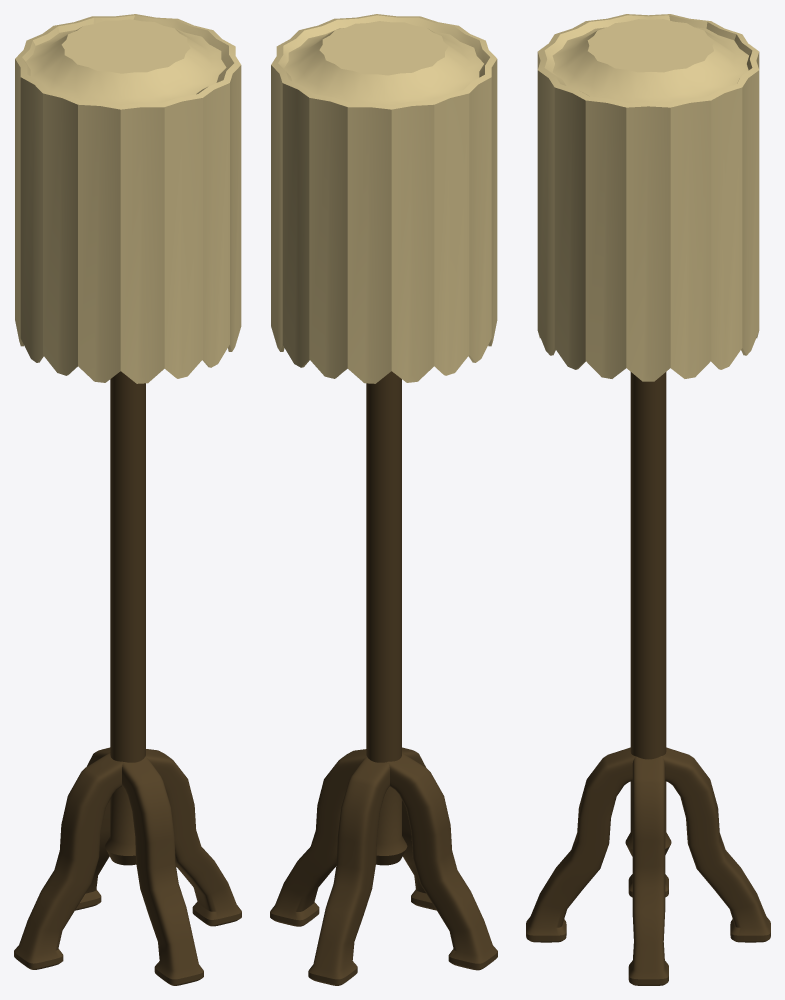
The model's file is veshalka5.fbx.
3 views of the same model, side by side, from view 1: azimuth 30°, elevation 25°; view 2: azimuth 150°, elevation 25°; view 3: azimuth 270°, elevation 25° (orthographic).
Parts seen in each view (by area): view 1: Cylinder.002; view 2: Cylinder.002; view 3: Cylinder.002.
Part boxes in pixels (left/top/right/bottom): Cylinder.002: left=14, top=14, right=241, bottom=985; Cylinder.002: left=270, top=14, right=497, bottom=985; Cylinder.002: left=526, top=14, right=770, bottom=985.
Size of the model in its own units: 141 by 561 by 140.
